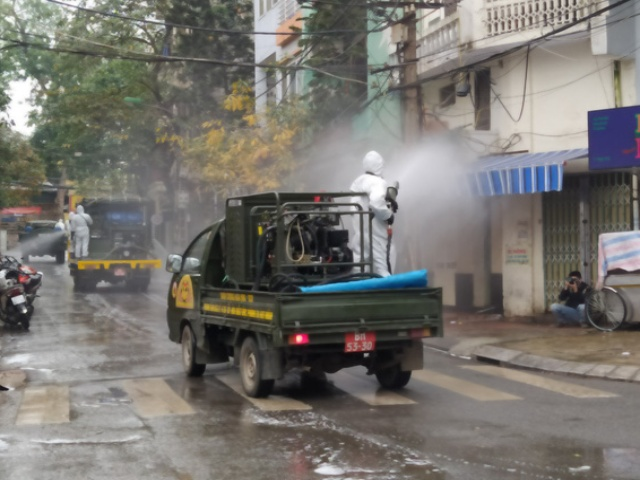plate: (344, 331, 375, 352), (112, 265, 128, 277)
